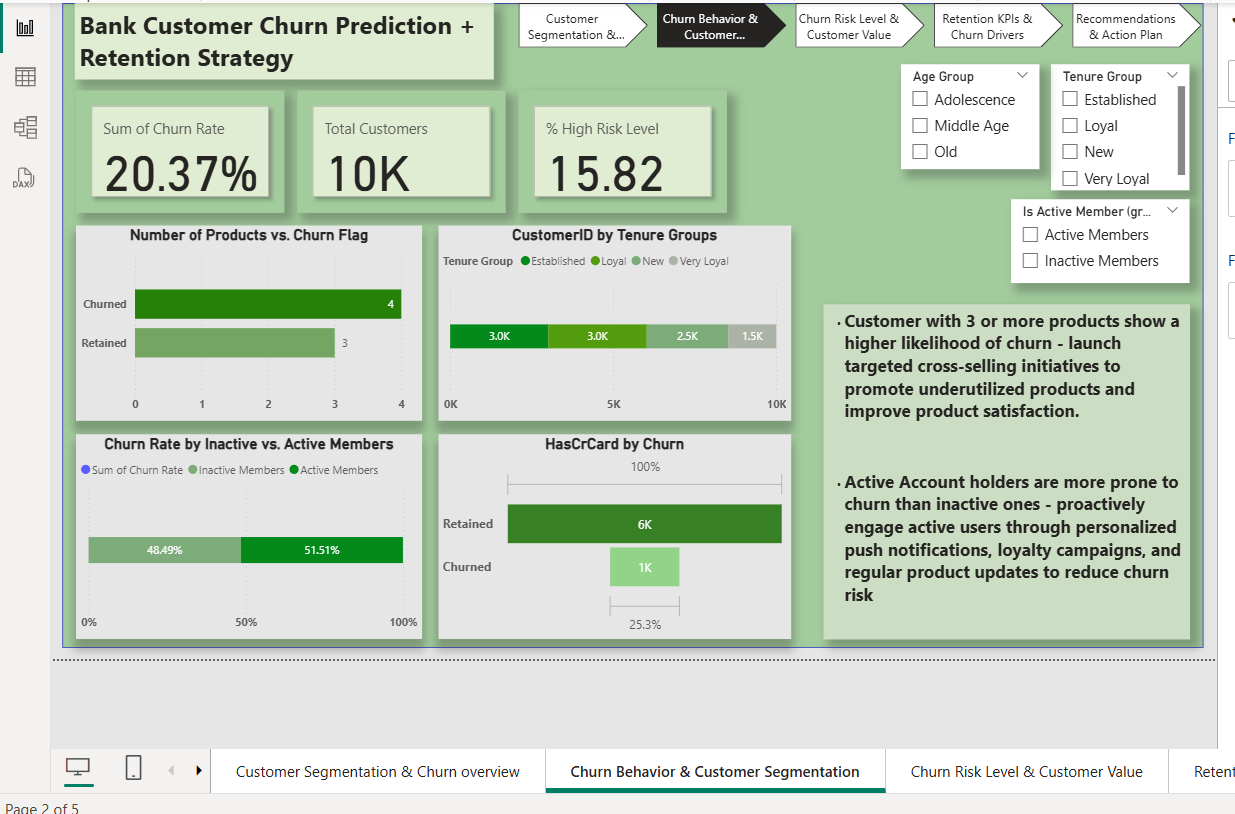

What the dashboard file says about the page in this screenshot:
{"tool":"powerbi","page":{"name":"Churn Behavior & Customer Segmentation","canvas":[1280,720],"ordinal":1},"visuals":[{"type":"shape","box":[12.3,0,1252.8,708.1],"z":0},{"type":"textbox","box":[26.1,0,459.7,83.7],"z":1000},{"type":"cardVisual","fields":{"Data":["Sum(Cleaned Dataset.Churn Rate)"]},"box":[27.4,96.1,229.2,134.5],"z":2000},{"type":"cardVisual","fields":{"Data":["Cleaned Dataset.Total Customers"]},"box":[270.3,96.1,229.2,134.5],"z":3000},{"type":"cardVisual","fields":{"Data":["Cleaned Dataset.% High Risk Level"]},"box":[513.2,96.1,229.2,134.5],"z":4000},{"type":"pageNavigator","box":[513.2,0,752,49.4],"z":5000},{"type":"clusteredBarChart","title":"Number of Products vs. Churn Flag","fields":{"Y":["Count(Cleaned Dataset.Numuber of Products)"],"Category":["Cleaned Dataset.Churn Flag"]},"box":[27.4,244.3,380.1,214.1],"z":6000},{"type":"barChart","title":"CustomerID by Tenure Groups","fields":{"Y":["CountNonNull(Cleaned Dataset.Customer ID)"],"Series":["Cleaned Dataset.Tenure Group"]},"box":[425.4,244.3,387,214.1],"z":7000},{"type":"hundredPercentStackedBarChart","title":"Churn Rate by Inactive vs. Active Members","fields":{"Y":["Sum(Cleaned Dataset.Churn Rate)","Cleaned Dataset.Inactive Members","Cleaned Dataset.Active Members"]},"box":[27.4,473.4,380.1,225],"z":8000},{"type":"funnel","title":"HasCrCard by Churn","fields":{"Y":["Sum(Cleaned Dataset.HasCrCard)"],"Category":["Cleaned Dataset.Churn Flag"]},"box":[425.4,473.4,387,225],"z":9000},{"type":"slicer","fields":{"Values":["Cleaned Dataset.Tenure Group"]},"box":[1097.8,67.2,152.3,138.6],"z":10000},{"type":"slicer","fields":{"Values":["Cleaned Dataset.Is Active Member (groups)"]},"box":[1053.9,215.4,196.2,91.9],"z":11000},{"type":"slicer","fields":{"Values":["Cleaned Dataset.Age Group"]},"box":[933.1,67.2,152.3,115.3],"z":12000},{"type":"textbox","box":[848,330.7,402.1,367.8],"z":13000}]}

Visuals, with their boxes on the page's 1280x720 design canvas (x1, y1, x2, y2). These are canvas units, not pixel positions in the 1235x814 screenshot, which may show the page scaled, cropped or inside an application window:
shape: {"x1": 12, "y1": 0, "x2": 1265, "y2": 708}
textbox: {"x1": 26, "y1": 0, "x2": 486, "y2": 84}
cardVisual - Sum(Cleaned Dataset.Churn Rate): {"x1": 27, "y1": 96, "x2": 257, "y2": 231}
cardVisual - Cleaned Dataset.Total Customers: {"x1": 270, "y1": 96, "x2": 500, "y2": 231}
cardVisual - Cleaned Dataset.% High Risk Level: {"x1": 513, "y1": 96, "x2": 742, "y2": 231}
pageNavigator: {"x1": 513, "y1": 0, "x2": 1265, "y2": 49}
"Number of Products vs. Churn Flag" clusteredBarChart: {"x1": 27, "y1": 244, "x2": 408, "y2": 458}
"CustomerID by Tenure Groups" barChart: {"x1": 425, "y1": 244, "x2": 812, "y2": 458}
"Churn Rate by Inactive vs. Active Members" hundredPercentStackedBarChart: {"x1": 27, "y1": 473, "x2": 408, "y2": 698}
"HasCrCard by Churn" funnel: {"x1": 425, "y1": 473, "x2": 812, "y2": 698}
slicer - Cleaned Dataset.Tenure Group: {"x1": 1098, "y1": 67, "x2": 1250, "y2": 206}
slicer - Cleaned Dataset.Is Active Member (groups): {"x1": 1054, "y1": 215, "x2": 1250, "y2": 307}
slicer - Cleaned Dataset.Age Group: {"x1": 933, "y1": 67, "x2": 1085, "y2": 182}
textbox: {"x1": 848, "y1": 331, "x2": 1250, "y2": 698}
